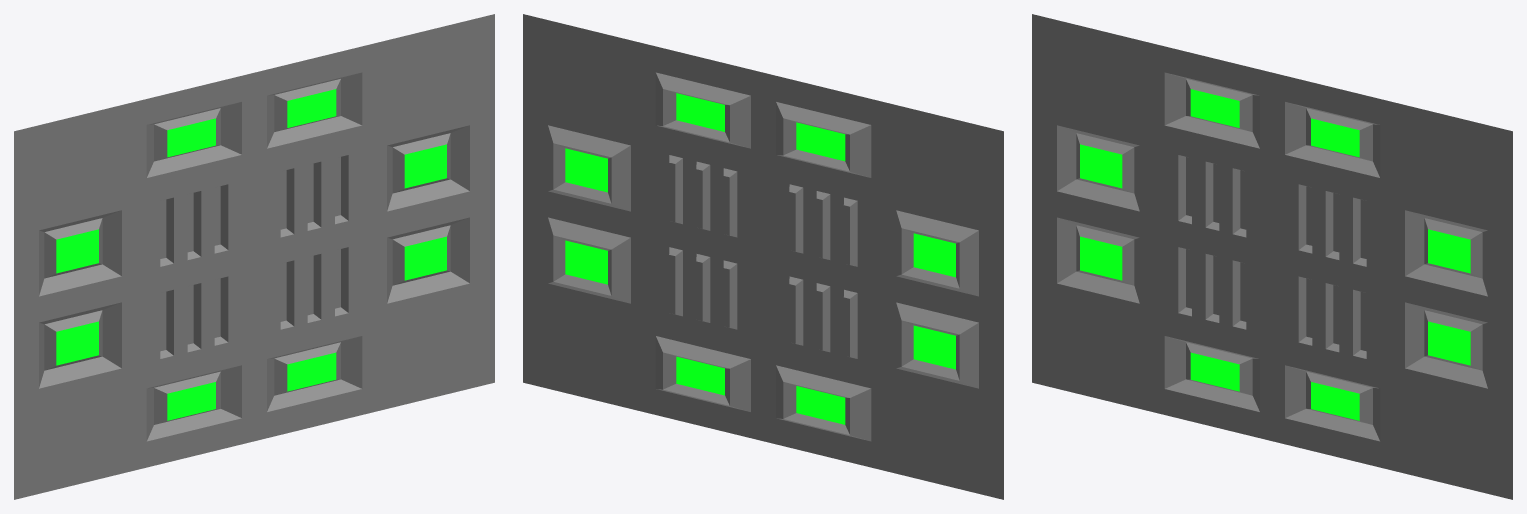
The model's file is WallTile8.fbx.
3 views of the same model, side by side, from view 1: azimuth 30°, elevation 25°; view 2: azimuth 150°, elevation 25°; view 3: azimuth 330°, elevation 25° (orthographic).
Parts seen in each view (by area): view 1: Plane010; view 2: Plane010; view 3: Plane010.
Boxes of the visible parts, x1,y1,x2,y2 form: Plane010: [14, 14, 494, 499]; Plane010: [523, 14, 1003, 499]; Plane010: [1032, 14, 1512, 499].
Bounding box in the file's own units: 938 × 687 × 23.54.
